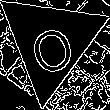O_N: (23, 10, 78, 74)
